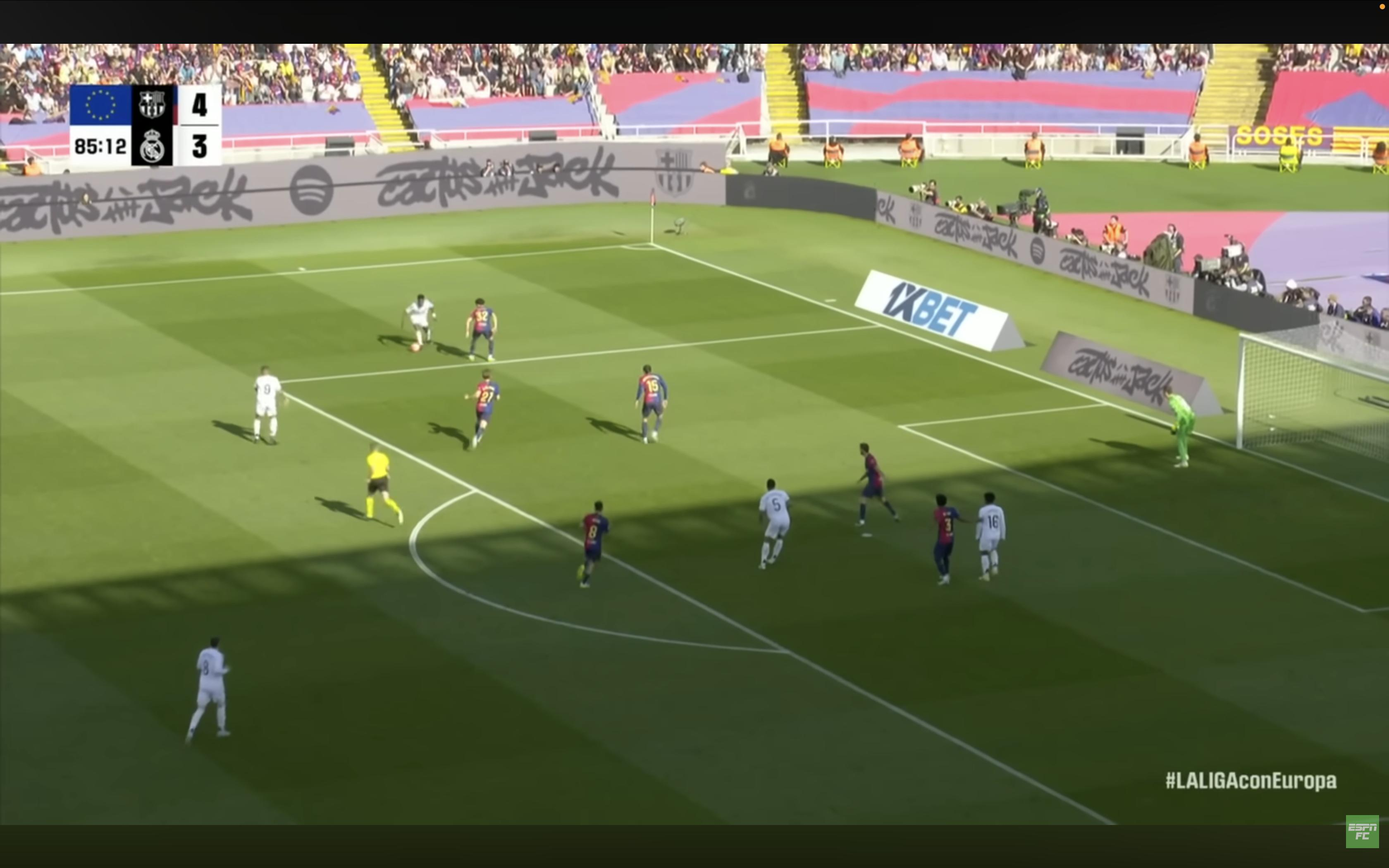ball: (410, 343, 421, 352)
goalkeeper: (1163, 384, 1196, 467)
player: (186, 637, 230, 743), (858, 443, 900, 526), (933, 494, 969, 585), (759, 479, 790, 569), (578, 501, 610, 588), (976, 492, 1006, 581), (635, 365, 668, 443), (252, 366, 284, 444), (468, 370, 499, 448), (404, 294, 437, 351), (468, 299, 497, 361)
referee: (366, 443, 403, 523)
